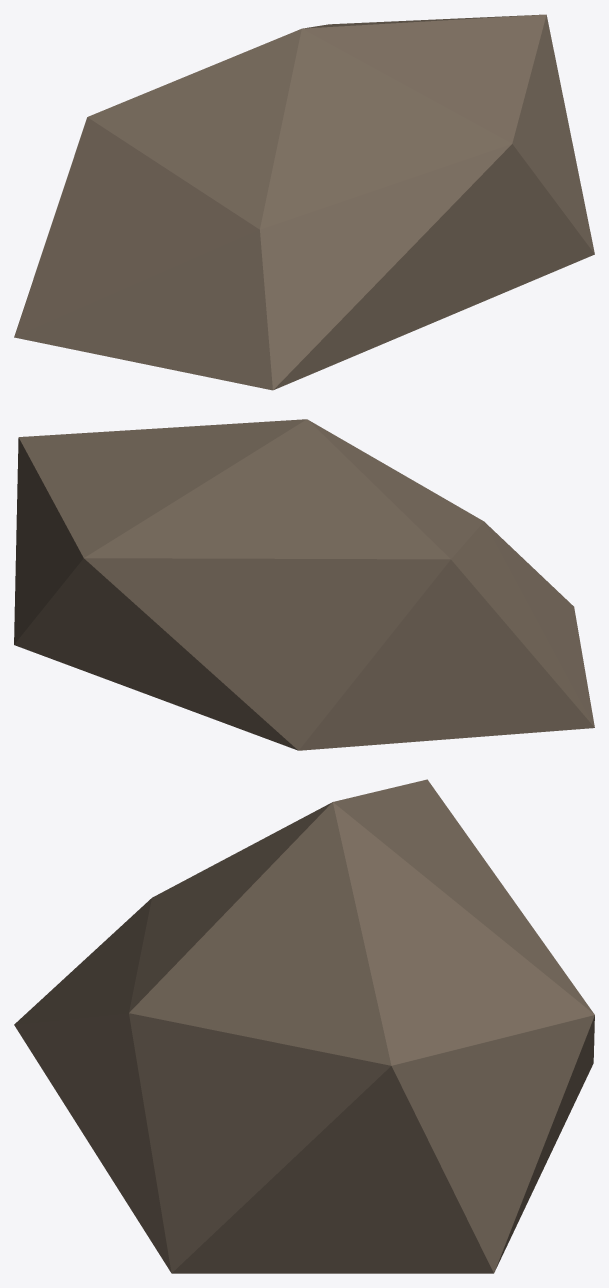
The model's file is stone.fbx.
3 renders of one model, top to bottom at view 1: azimuth 30°, elevation 25°; view 2: azimuth 150°, elevation 25°; view 3: azimuth 270°, elevation 25°, orthographic. The views are drawn at different scales.
Parts seen in each view (by area): view 1: Icosphere; view 2: Icosphere; view 3: Icosphere.
Part boxes in pixels (bbox=[...]): Icosphere: bbox=[14, 14, 594, 390]; Icosphere: bbox=[14, 419, 594, 750]; Icosphere: bbox=[14, 779, 594, 1273].
Bounding box in the file's own units: 302 × 149 × 205.
